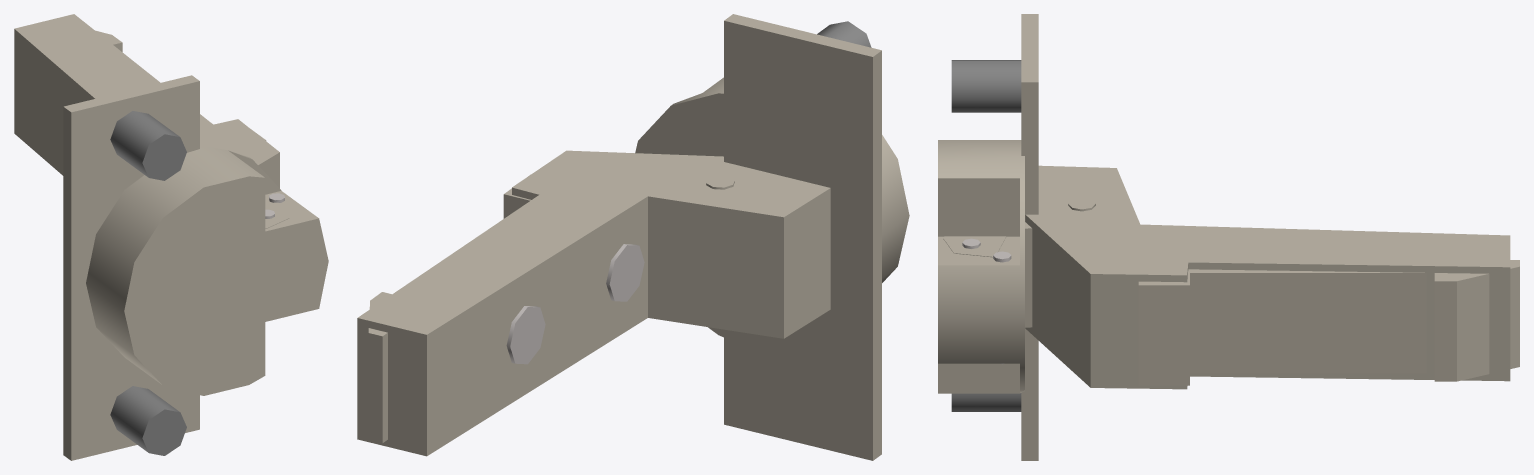
The picture shows the model from 3 angles, left to right: view 1: azimuth 30°, elevation 25°; view 2: azimuth 150°, elevation 25°; view 3: azimuth 270°, elevation 25°; orthographic projection. The views are drawn at different scales.
Visible parts, largest first — view 1: bau0045622955-1, bau0050876170-1, bau0016549175-2; view 2: bau0050876170-1, bau0045622955-1, bau0019426112-1; view 3: bau0050876170-1, bau0019426112-1, bau0045622955-1, bau0016549175-2, bau0016549209-1.
Part boxes in pixels (x1,y1,x2,y2): bau0045622955-1: (63,75,328,460); bau0050876170-1: (14,14,279,188); bau0016549175-2: (265,202,289,228); bau0050876170-1: (357,150,830,456); bau0045622955-1: (635,14,909,460); bau0019426112-1: (368,174,531,443); bau0050876170-1: (1025,165,1510,389); bau0019426112-1: (1138,260,1519,385); bau0045622955-1: (938,14,1038,460); bau0016549175-2: (943,236,1006,257); bau0016549209-1: (1025,222,1032,327).
Size of the model in its own units: 42.6 by 57 by 79.35.
